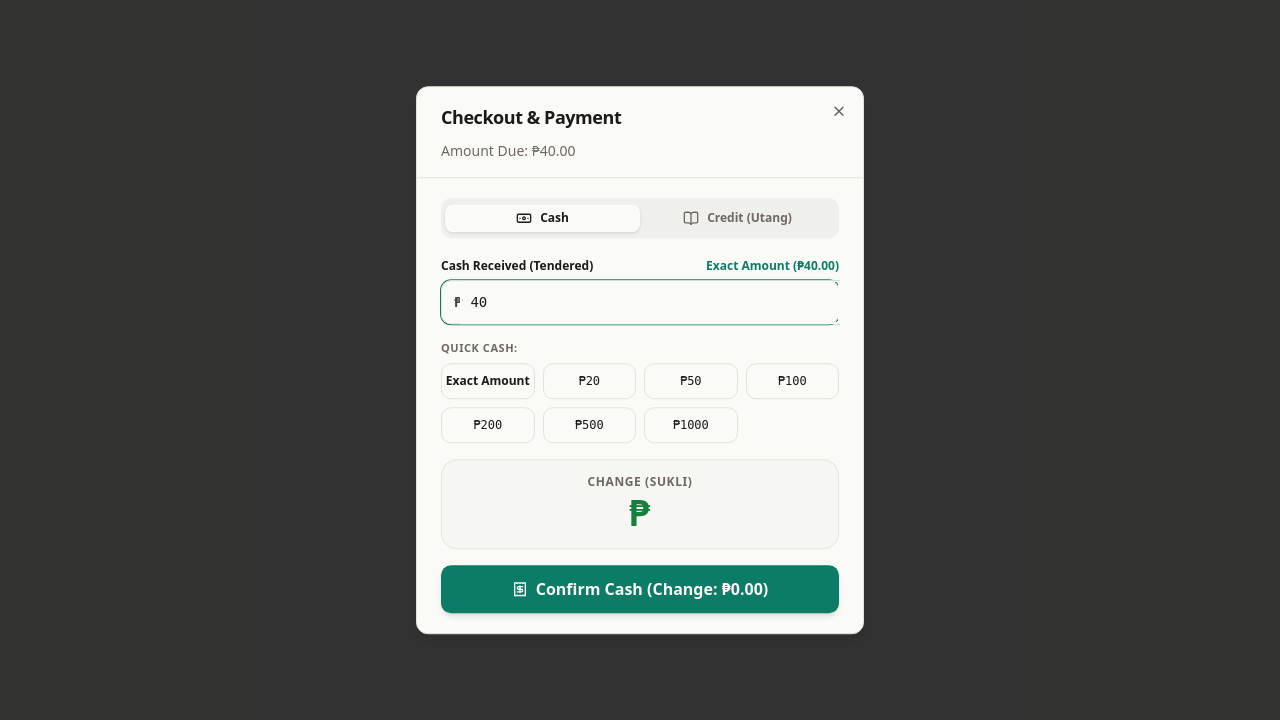
Test case: Interaction and Dialog Smoke Tests › Entity Dialogs › renders PaymentDialog on cash and utang tabs
The image size is (1280, 720).
Expected: the tab "Cash" is shown, [445,204,640,232]
Switch to Utang tab
Click the tab "Credit (Utang)" at (738, 218), box [640,204,835,232]
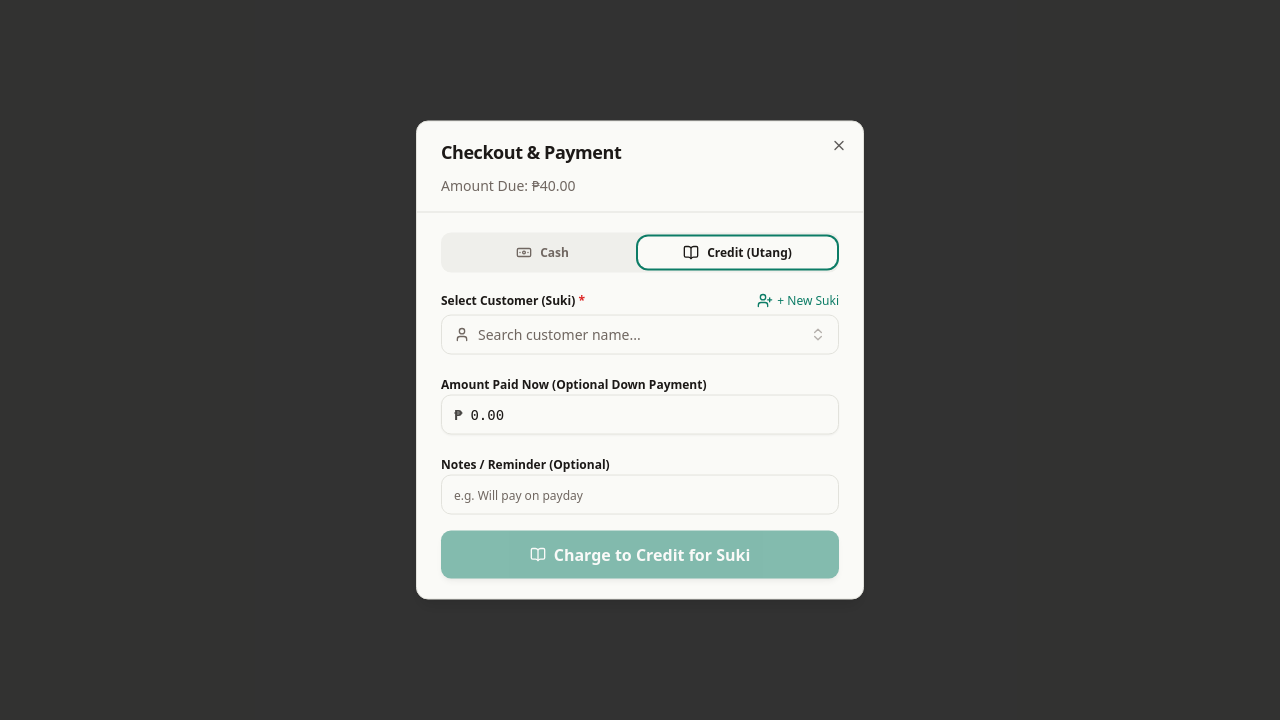
Now the text "Search customer name..." is shown, box [478,324,641,344]
